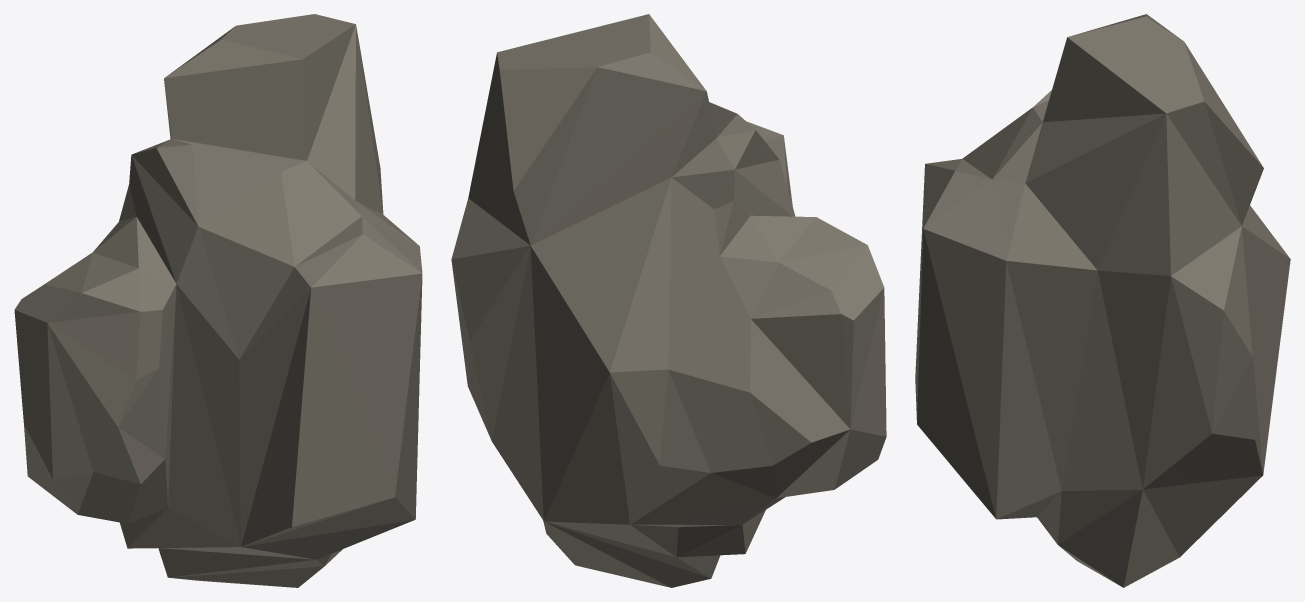
The model's file is rock__rock4_cave_light.glb.
3 views of the same model, side by side, from view 1: azimuth 30°, elevation 25°; view 2: azimuth 150°, elevation 25°; view 3: azimuth 270°, elevation 25° (orthographic).
Visible parts, largest first — view 1: rock4.cave.light; view 2: rock4.cave.light; view 3: rock4.cave.light.
Part boxes in pixels (x1,y1,x2,y2): rock4.cave.light: (14,14,422,587); rock4.cave.light: (451,14,886,587); rock4.cave.light: (915,14,1290,587).
Bounding box in the file's own units: 3.13 × 4.25 × 2.74.
1 material, 1 textured.
